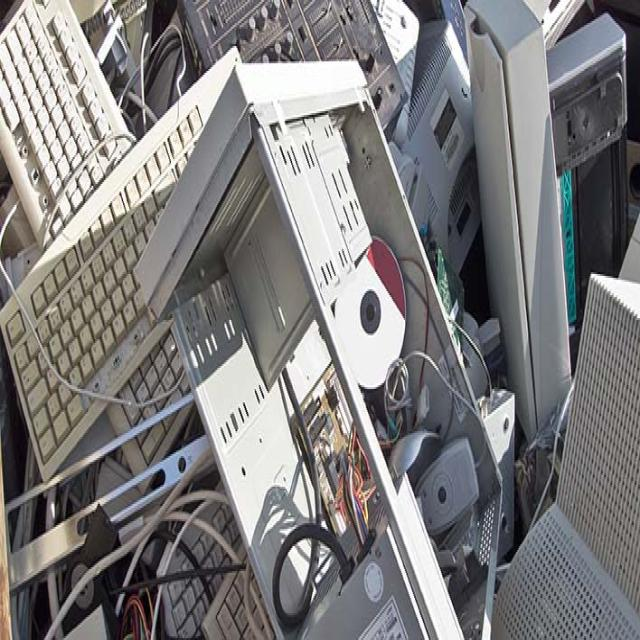Hazard: (3, 0, 635, 635)
